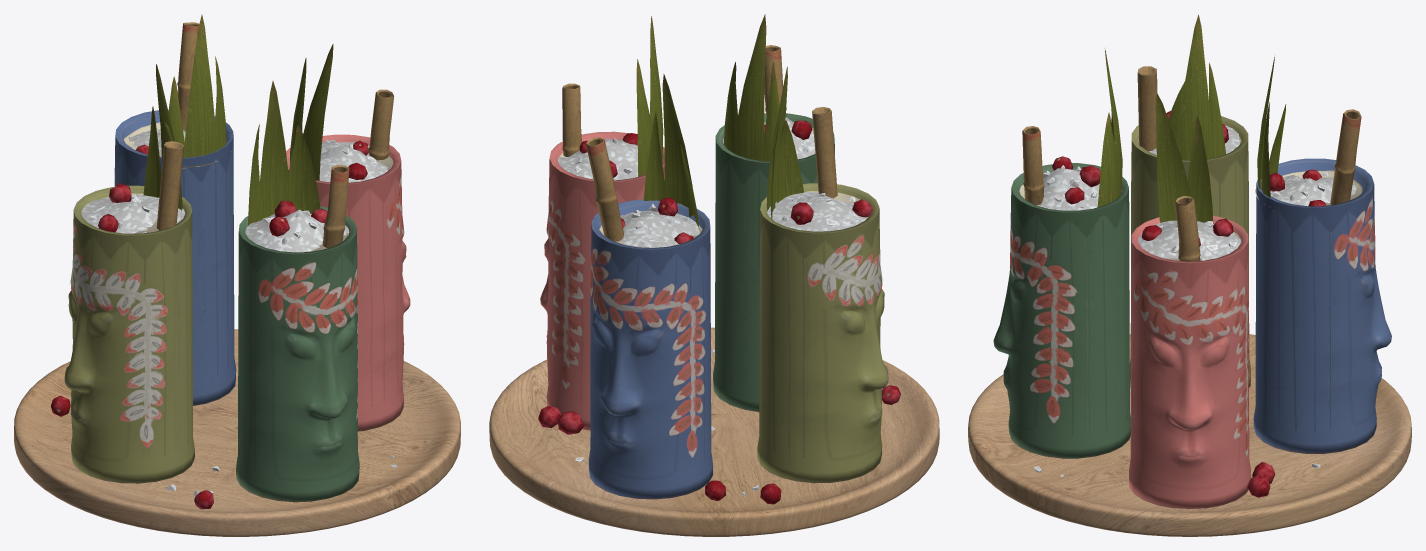
File: godface_tequila.glb
The picture shows the model from 3 angles, left to right: view 1: azimuth 30°, elevation 25°; view 2: azimuth 150°, elevation 25°; view 3: azimuth 270°, elevation 25°; orthographic projection.
Visible parts, largest first — view 1: wooden tray_43, salad_mug_40, green_mug_3, blue_mug_22, red_mug_19, leaves_6, leaves otherside.002_28, leaves otherside.001_16, ice_low_5, ice_low.003_36, tube.003_41, leaves.003_38 (+5 smaller); view 2: salad_mug_40, blue_mug_22, wooden tray_43, green_mug_3, red_mug_19, leaves otherside_7, leaves.002_29, leaves.003_38, ice_low.003_36, leaves otherside.001_16, tube.002_31, ice_low.002_27 (+5 smaller); view 3: blue_mug_22, green_mug_3, red_mug_19, wooden tray_43, salad_mug_40, leaves.001_17, leaves otherside.003_37, ice_low.001_15, leaves otherside_7, tube.002_31, ice_low_5, tube.003_41 (+6 smaller).
Boxes of the visible parts, <box> form: wooden tray_43: <box>14,329,460,536</box>; salad_mug_40: <box>64,185,194,483</box>; green_mug_3: <box>236,206,359,502</box>; blue_mug_22: <box>114,109,236,405</box>; red_mug_19: <box>286,134,410,431</box>; leaves_6: <box>248,81,320,225</box>; leaves otherside.002_28: <box>168,14,226,157</box>; leaves otherside.001_16: <box>290,44,332,180</box>; ice_low_5: <box>245,209,349,252</box>; ice_low.003_36: <box>81,194,184,233</box>; tube.003_41: <box>156,141,184,230</box>; leaves.003_38: <box>143,64,182,211</box>; salad_mug_40: <box>757,183,888,483</box>; blue_mug_22: <box>588,199,713,499</box>; wooden tray_43: <box>489,327,939,536</box>; green_mug_3: <box>713,113,834,411</box>; red_mug_19: <box>540,131,664,430</box>; leaves otherside_7: <box>723,15,779,161</box>; leaves.002_29: <box>643,74,698,226</box>; leaves.003_38: <box>766,67,804,218</box>; ice_low.003_36: <box>767,192,867,231</box>; leaves otherside.001_16: <box>637,16,663,176</box>; tube.002_31: <box>586,137,623,241</box>; ice_low.002_27: <box>620,210,699,247</box>; blue_mug_22: <box>1253,158,1391,453</box>; green_mug_3: <box>993,163,1130,458</box>; red_mug_19: <box>1129,215,1250,508</box>; wooden tray_43: <box>968,334,1411,536</box>; salad_mug_40: <box>1129,116,1250,387</box>; leaves.001_17: <box>1155,93,1213,223</box>; leaves otherside.003_37: <box>1168,15,1225,160</box>; ice_low.001_15: <box>1138,220,1240,260</box>; leaves otherside_7: <box>1098,50,1122,207</box>; tube.002_31: <box>1330,109,1361,204</box>; ice_low_5: <box>1040,168,1099,210</box>; tube.003_41: <box>1137,66,1157,151</box>.
Size of the model in its own units: 0.2596 by 0.2542 by 0.2596.
5 materials, 5 textured.
